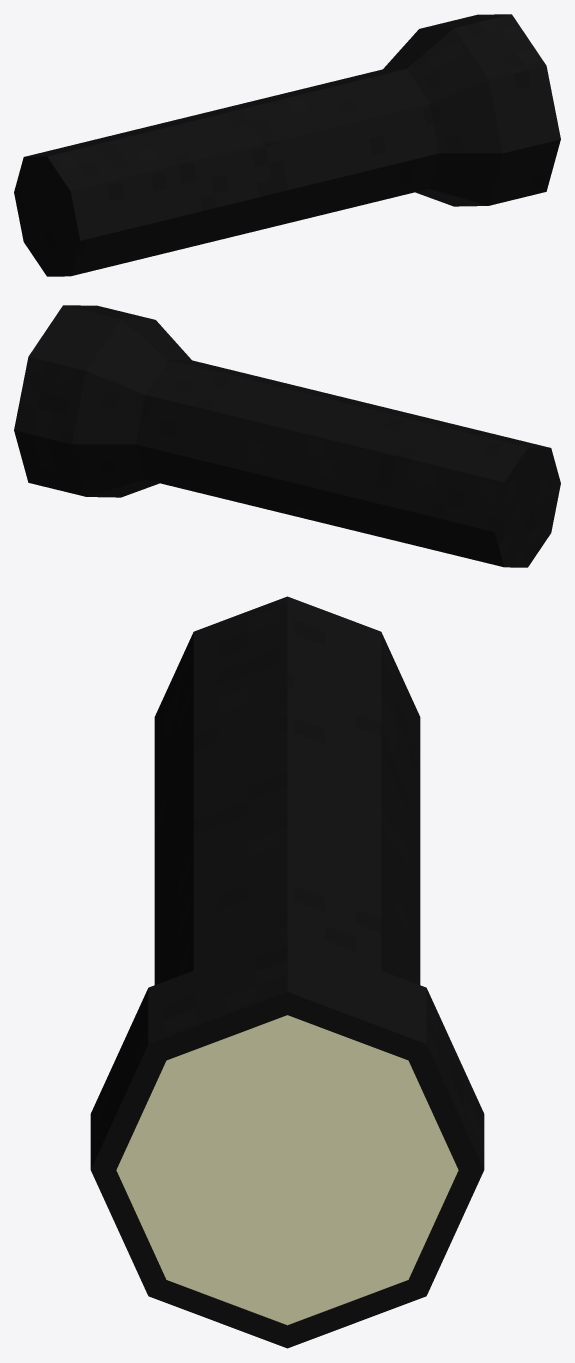
File: FlashlightModel.fbx
The picture shows the model from 3 angles, top to bottom: view 1: azimuth 30°, elevation 25°; view 2: azimuth 150°, elevation 25°; view 3: azimuth 270°, elevation 25°; orthographic projection. The views are drawn at different scales.
Visible parts, largest first — view 1: Cylinder; view 2: Cylinder; view 3: Cylinder.
Boxes of the visible parts, box(x1,y1,x2,y2) form: Cylinder: box(14, 14, 560, 276); Cylinder: box(14, 305, 560, 567); Cylinder: box(90, 596, 484, 1348).
Bounding box in the file's own units: 32.35 × 11.86 × 11.86.
Materials: 1 (1 with a texture image).
